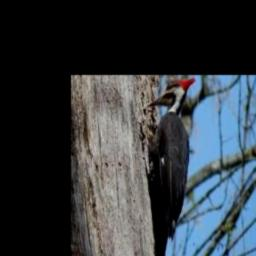Woodpecker: (145, 78, 196, 240)
